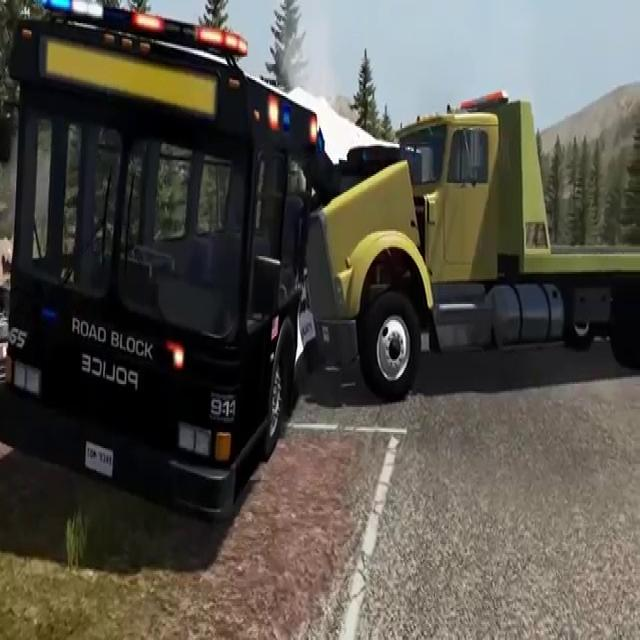severe: (0, 0, 637, 539)
